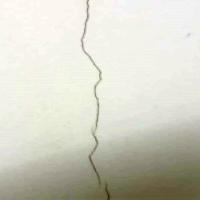crack: (62, 0, 140, 199)
